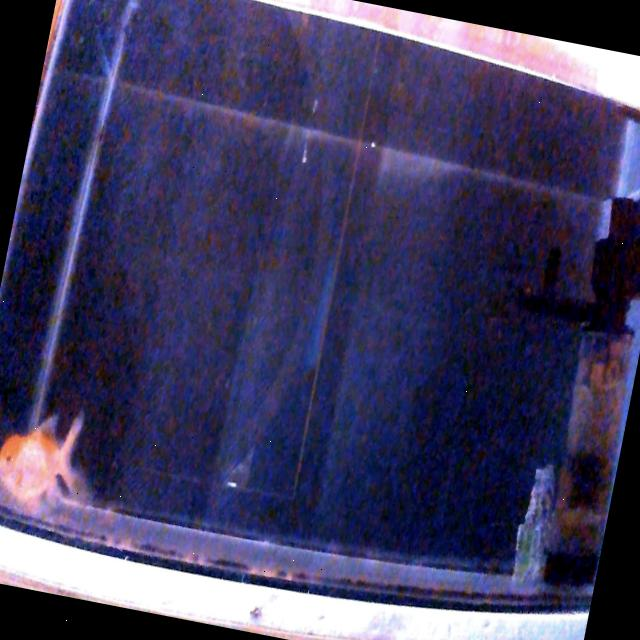fish: (0, 394, 96, 516)
